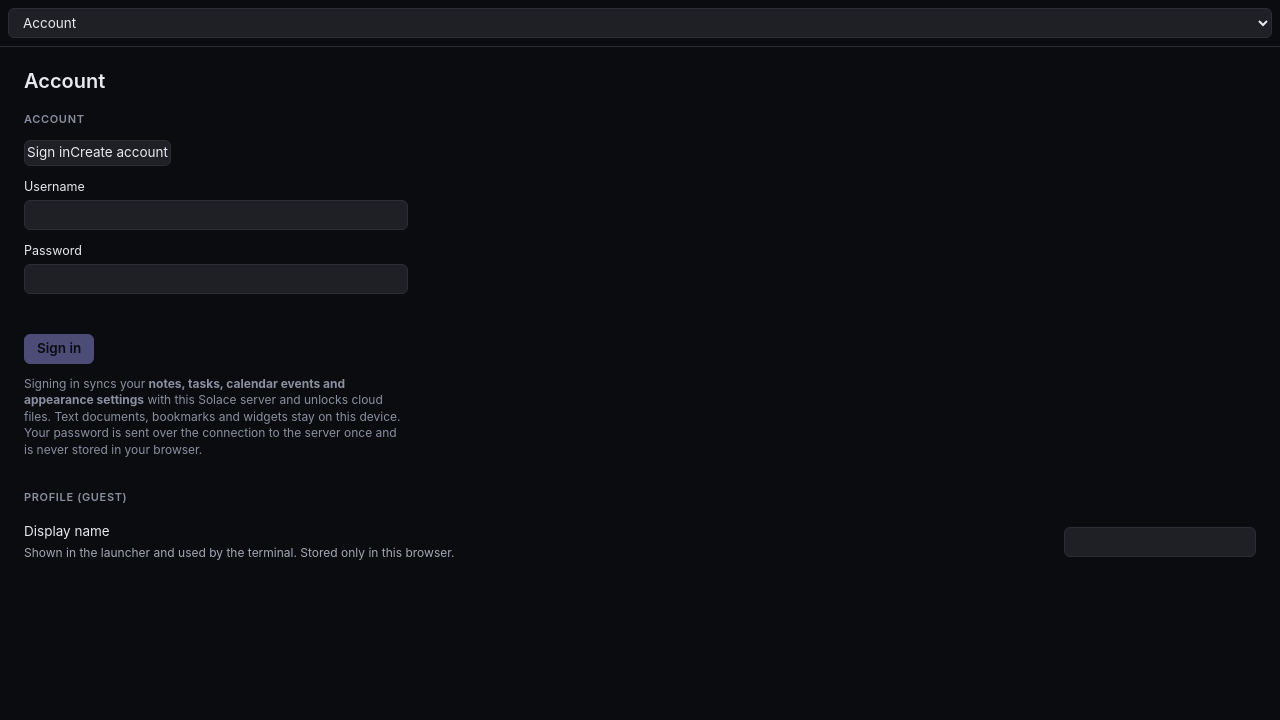
Test: Account (backend) settings › shows field-level validation errors from the server
Step 1. Click the radio button labelled "Create account" → coordinates (119, 153), box [70, 143, 168, 162]
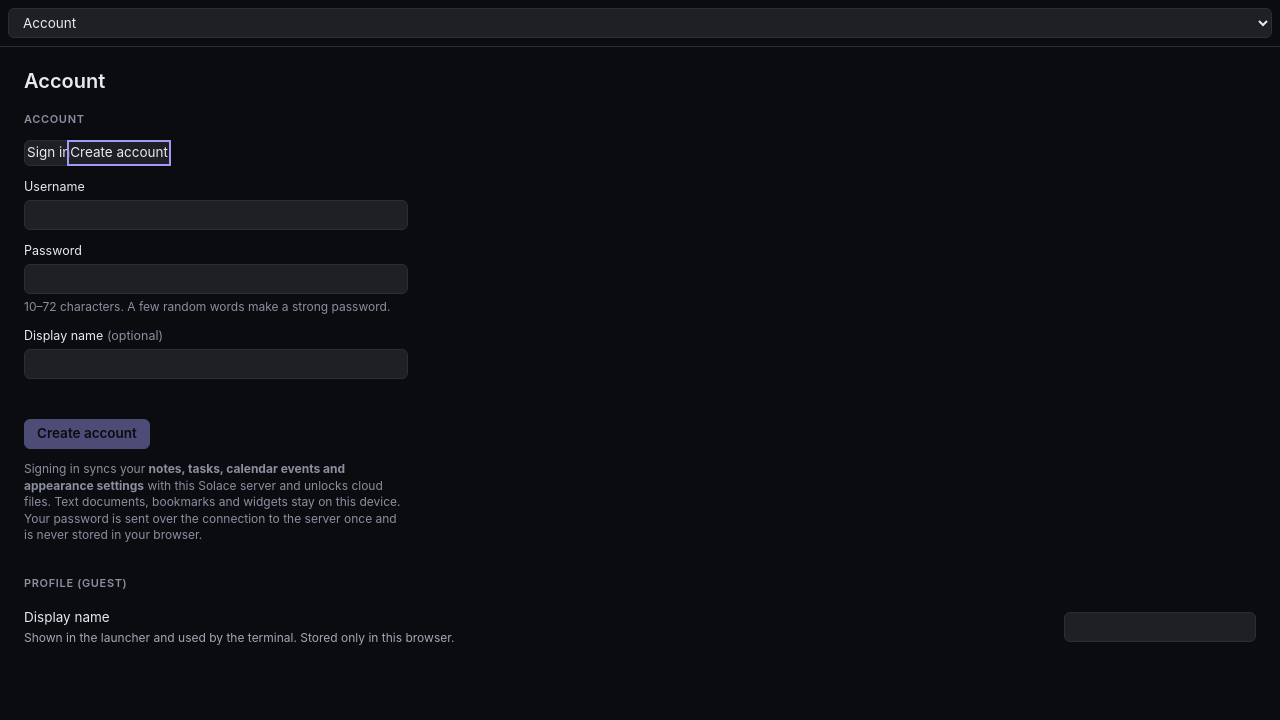
Step 2. Type "ab" into the field labelled "Username" → coordinates (216, 215), box [24, 200, 408, 230]
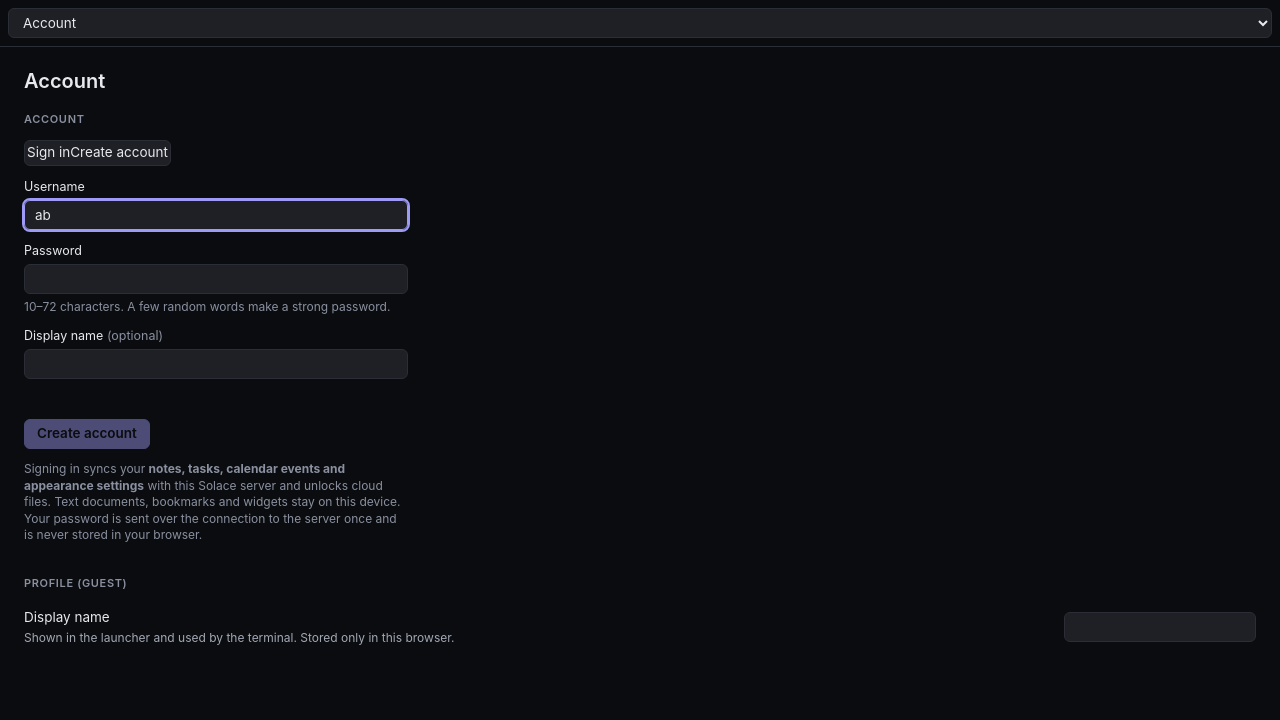
Step 3. Type "whatever password" into the password field labelled "Password" → coordinates (216, 279), box [24, 264, 408, 294]
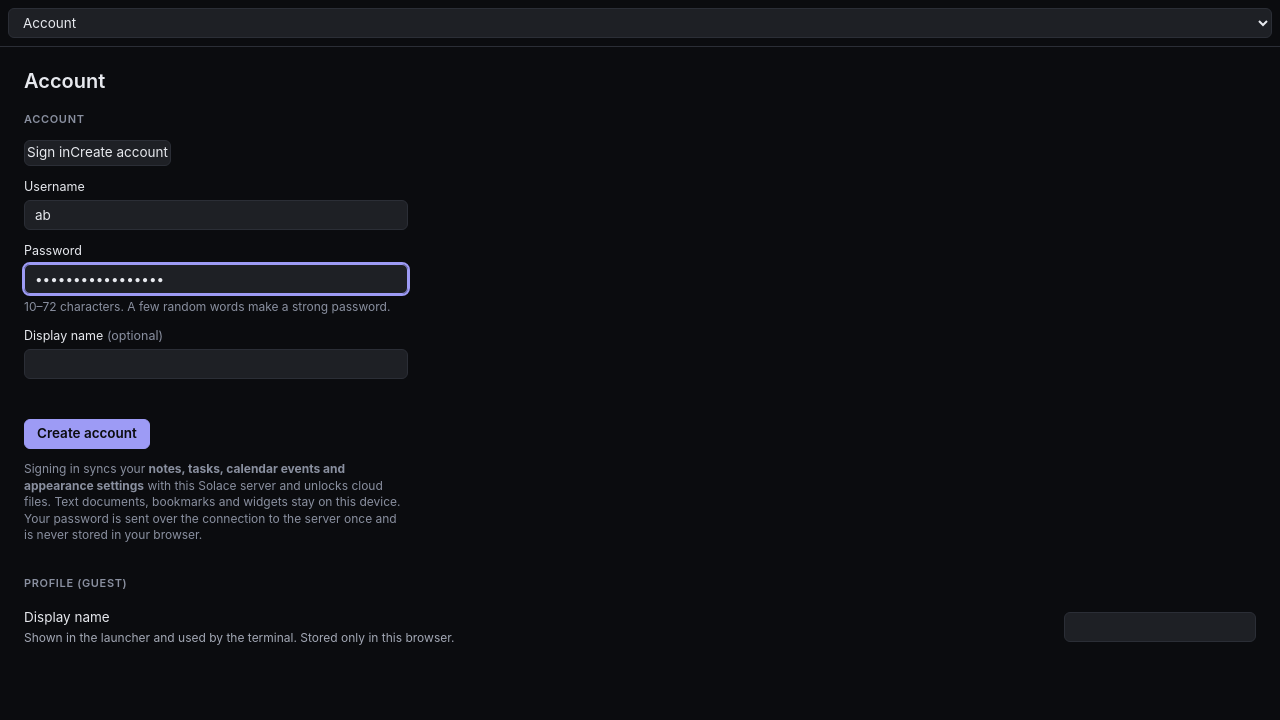
Step 4. Click the button "Create account" → coordinates (87, 434), box [24, 419, 150, 449]
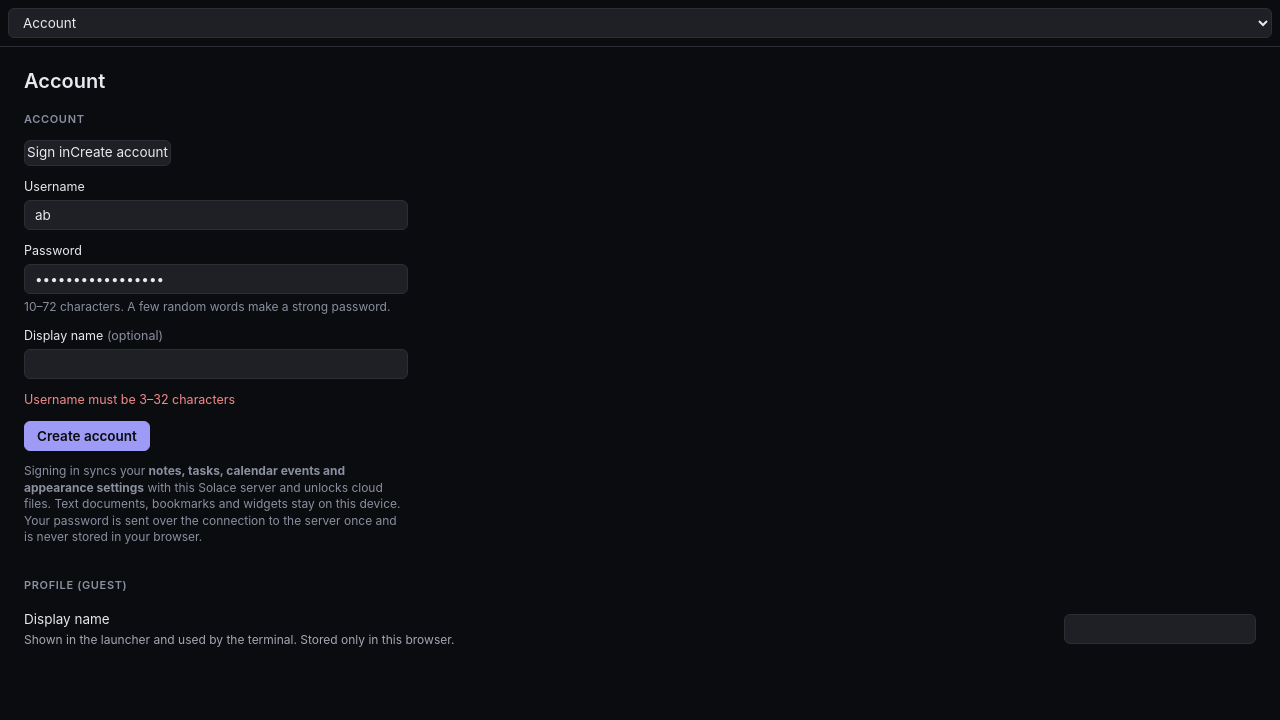
Expected: the message shows "3–32 characters", [24, 392, 235, 407]
